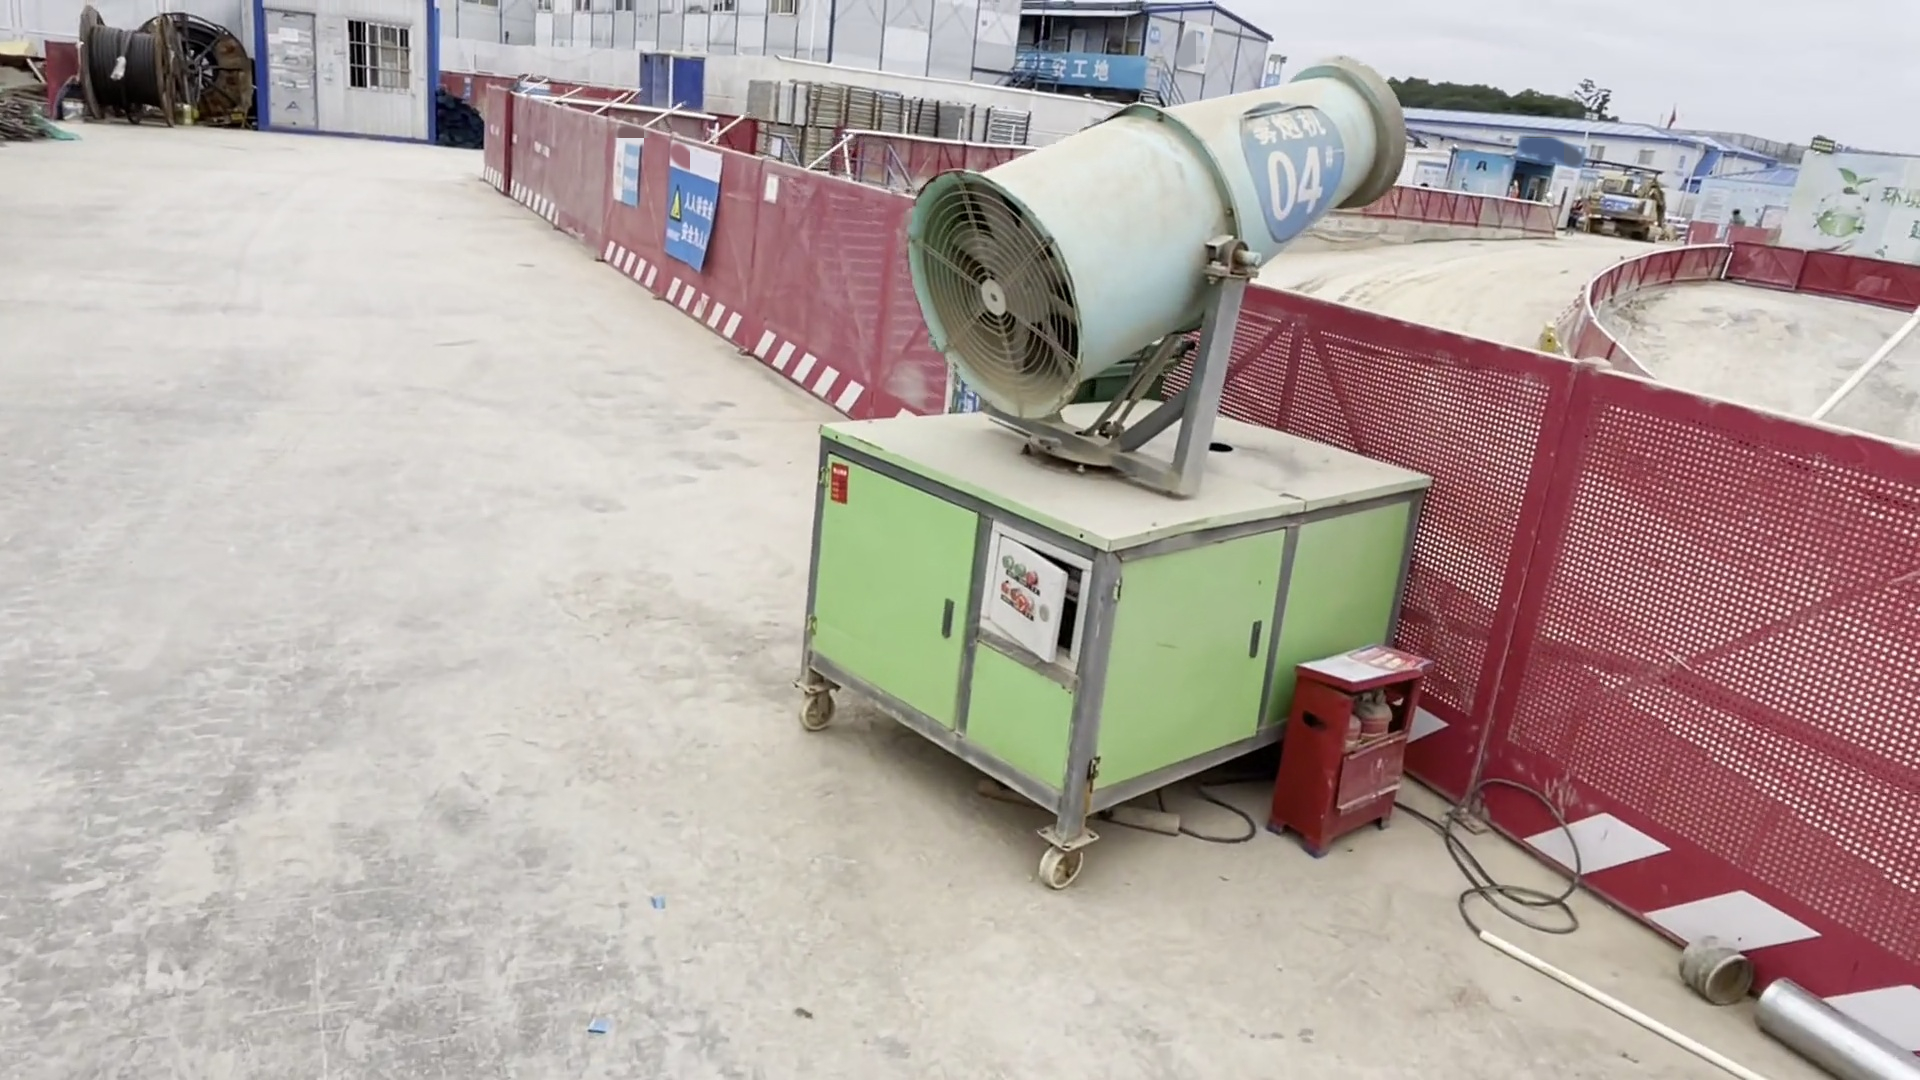slogan: (646, 182, 712, 255)
